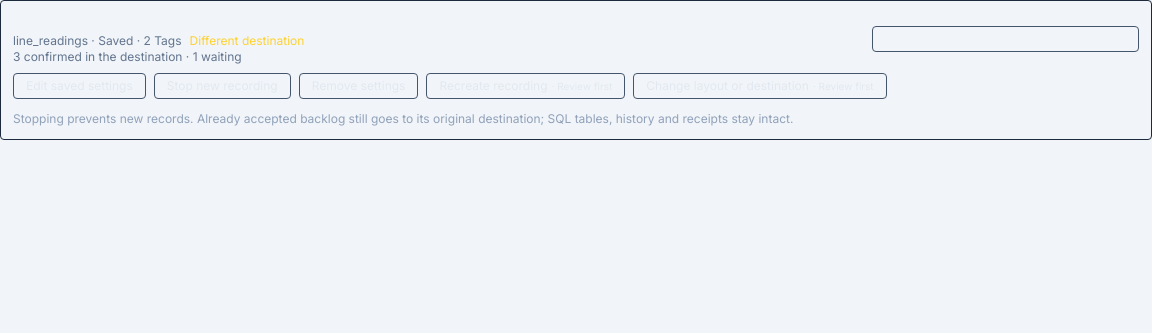
Test case: saved-card lifecycle integration and negative authority paths › does not use cached allowed stop facts after new blocker
The width and height of the screenshot is (1152, 333).
Check: the text "3 confirmed in the destination · 1 waiting" is shown, box [13,49,242,64]
Click the button with test id "group-disable" at [222, 86], box [154,73,291,99]
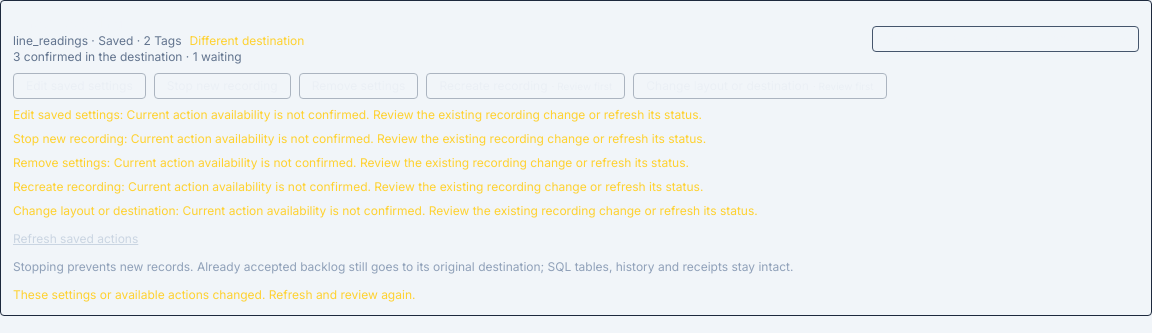
Check: the message shows "Refresh and review again", box [13,287,415,302]
